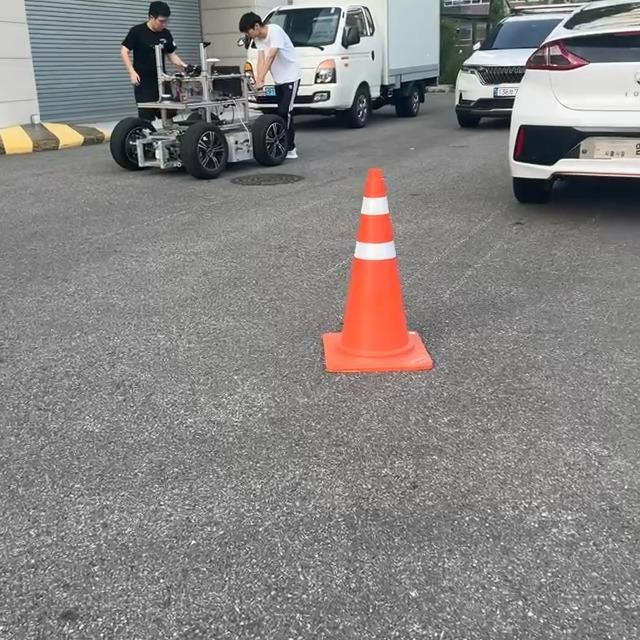fallen_object: (262, 112, 468, 415)
